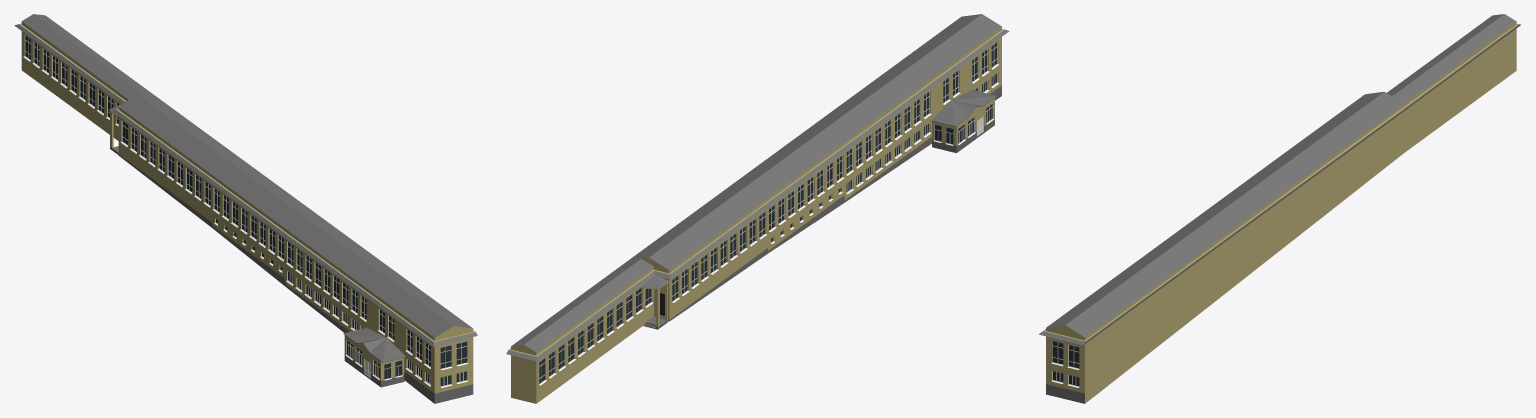
Rendered from Manej.glb.
The picture shows the model from 3 angles, left to right: view 1: azimuth 30°, elevation 25°; view 2: azimuth 150°, elevation 25°; view 3: azimuth 330°, elevation 25°; orthographic projection. The views are drawn at different scales.
Visible parts, largest first — view 1: Манеж, Манеж_кровля, Манеж_Окно_2х3, Манеж_Окно_2х3.001, Манеж_пристройка, Манеж_пристройка_кровля, Манеж_Окно_2х3.012, Манеж_Окно_2х3.007, Манеж_Окно_2х3.009; view 2: Манеж, Манеж_кровля, Манеж_Окно_2х3, Манеж_Окно_2х3.001, Манеж_пристройка_кровля, Манеж_пристройка, Манеж_Окно_2х3.012, Маеж_козырек, Манеж_Окно_2х3.009; view 3: Манеж, Манеж_кровля, Манеж_Окно_2х3.007.
Part boxes in pixels (box(x1,y1,x2,y2)): Манеж: box(14, 21, 477, 403); Манеж_кровля: box(22, 14, 472, 337); Манеж_Окно_2х3: box(120, 121, 366, 322); Манеж_Окно_2х3.001: box(23, 35, 119, 126); Манеж_пристройка: box(344, 335, 404, 387); Манеж_пристройка_кровля: box(343, 327, 405, 362); Манеж_Окно_2х3.012: box(286, 272, 364, 330); Манеж_Окно_2х3.007: box(440, 341, 467, 370); Манеж_Окно_2х3.009: box(405, 329, 430, 369); Манеж: box(506, 27, 1009, 403); Манеж_кровля: box(511, 14, 1001, 352); Манеж_Окно_2х3: box(672, 91, 931, 303); Манеж_Окно_2х3.001: box(539, 288, 653, 386); Манеж_пристройка_кровля: box(930, 90, 996, 126); Манеж_пристройка: box(932, 98, 994, 153); Манеж_Окно_2х3.012: box(846, 122, 931, 194); Маеж_козырек: box(640, 275, 669, 329); Манеж_Окно_2х3.009: box(972, 41, 998, 84); Манеж: box(1039, 21, 1520, 403); Манеж_кровля: box(1046, 14, 1516, 336); Манеж_Окно_2х3.007: box(1051, 341, 1079, 370).
Bounding box in the file's own units: 1.77 × 1.91 × 20.5.
